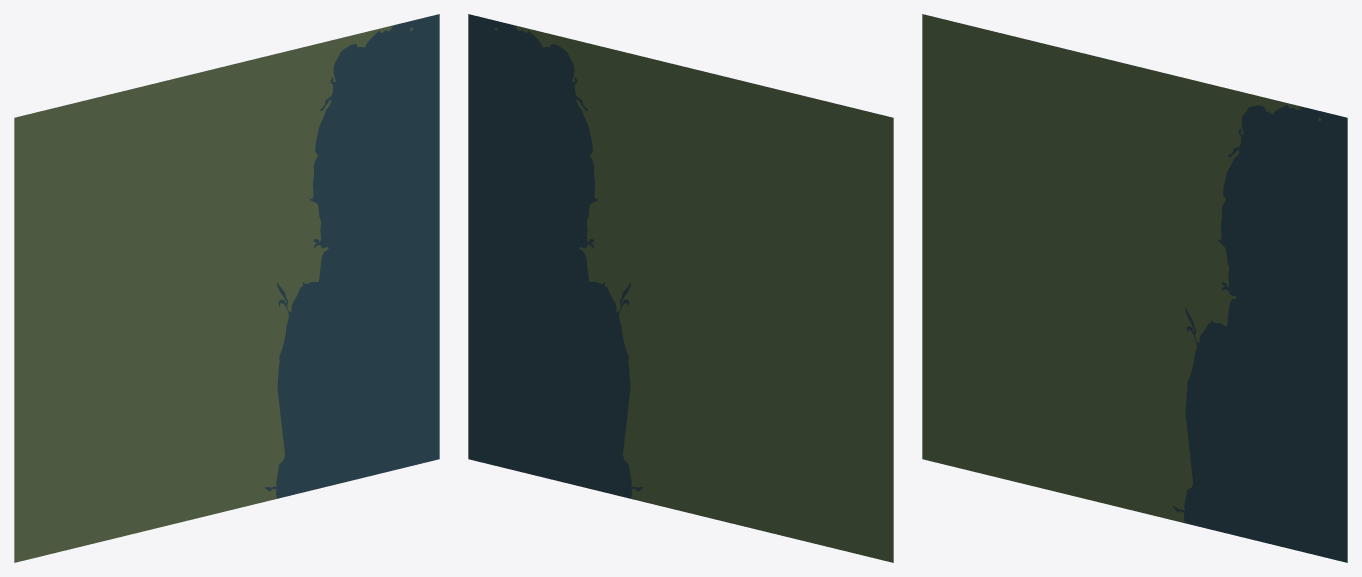
Rendered from shape_110_Coast_10.glb.
3 renders of one model, left to right at view 1: azimuth 30°, elevation 25°; view 2: azimuth 150°, elevation 25°; view 3: azimuth 330°, elevation 25°, orthographic.
Size of the model in its own units: 4096 by 4096 by 0.
